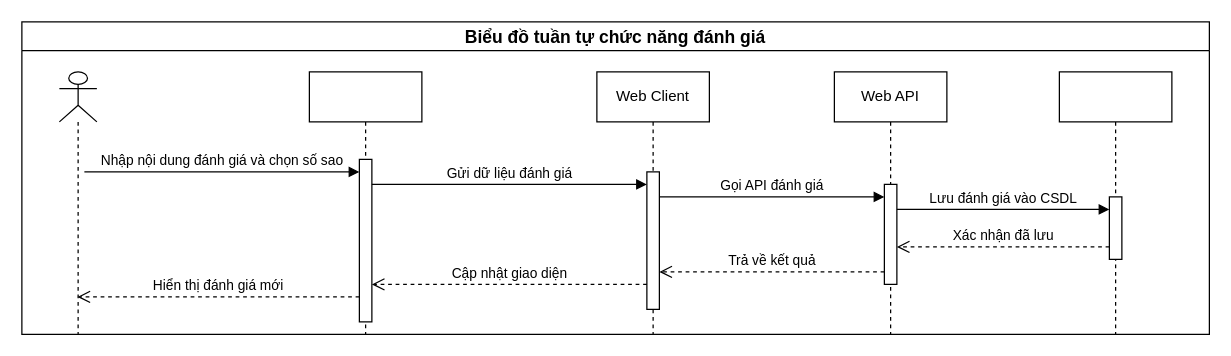
This 1231x356 diagram has some shape labels left out. The box of each missing label's shape, as (x1, y1, x2, y2) in pixels:
Giao diện: (308, 71, 422, 334)
MySQL: (1058, 71, 1172, 334)
